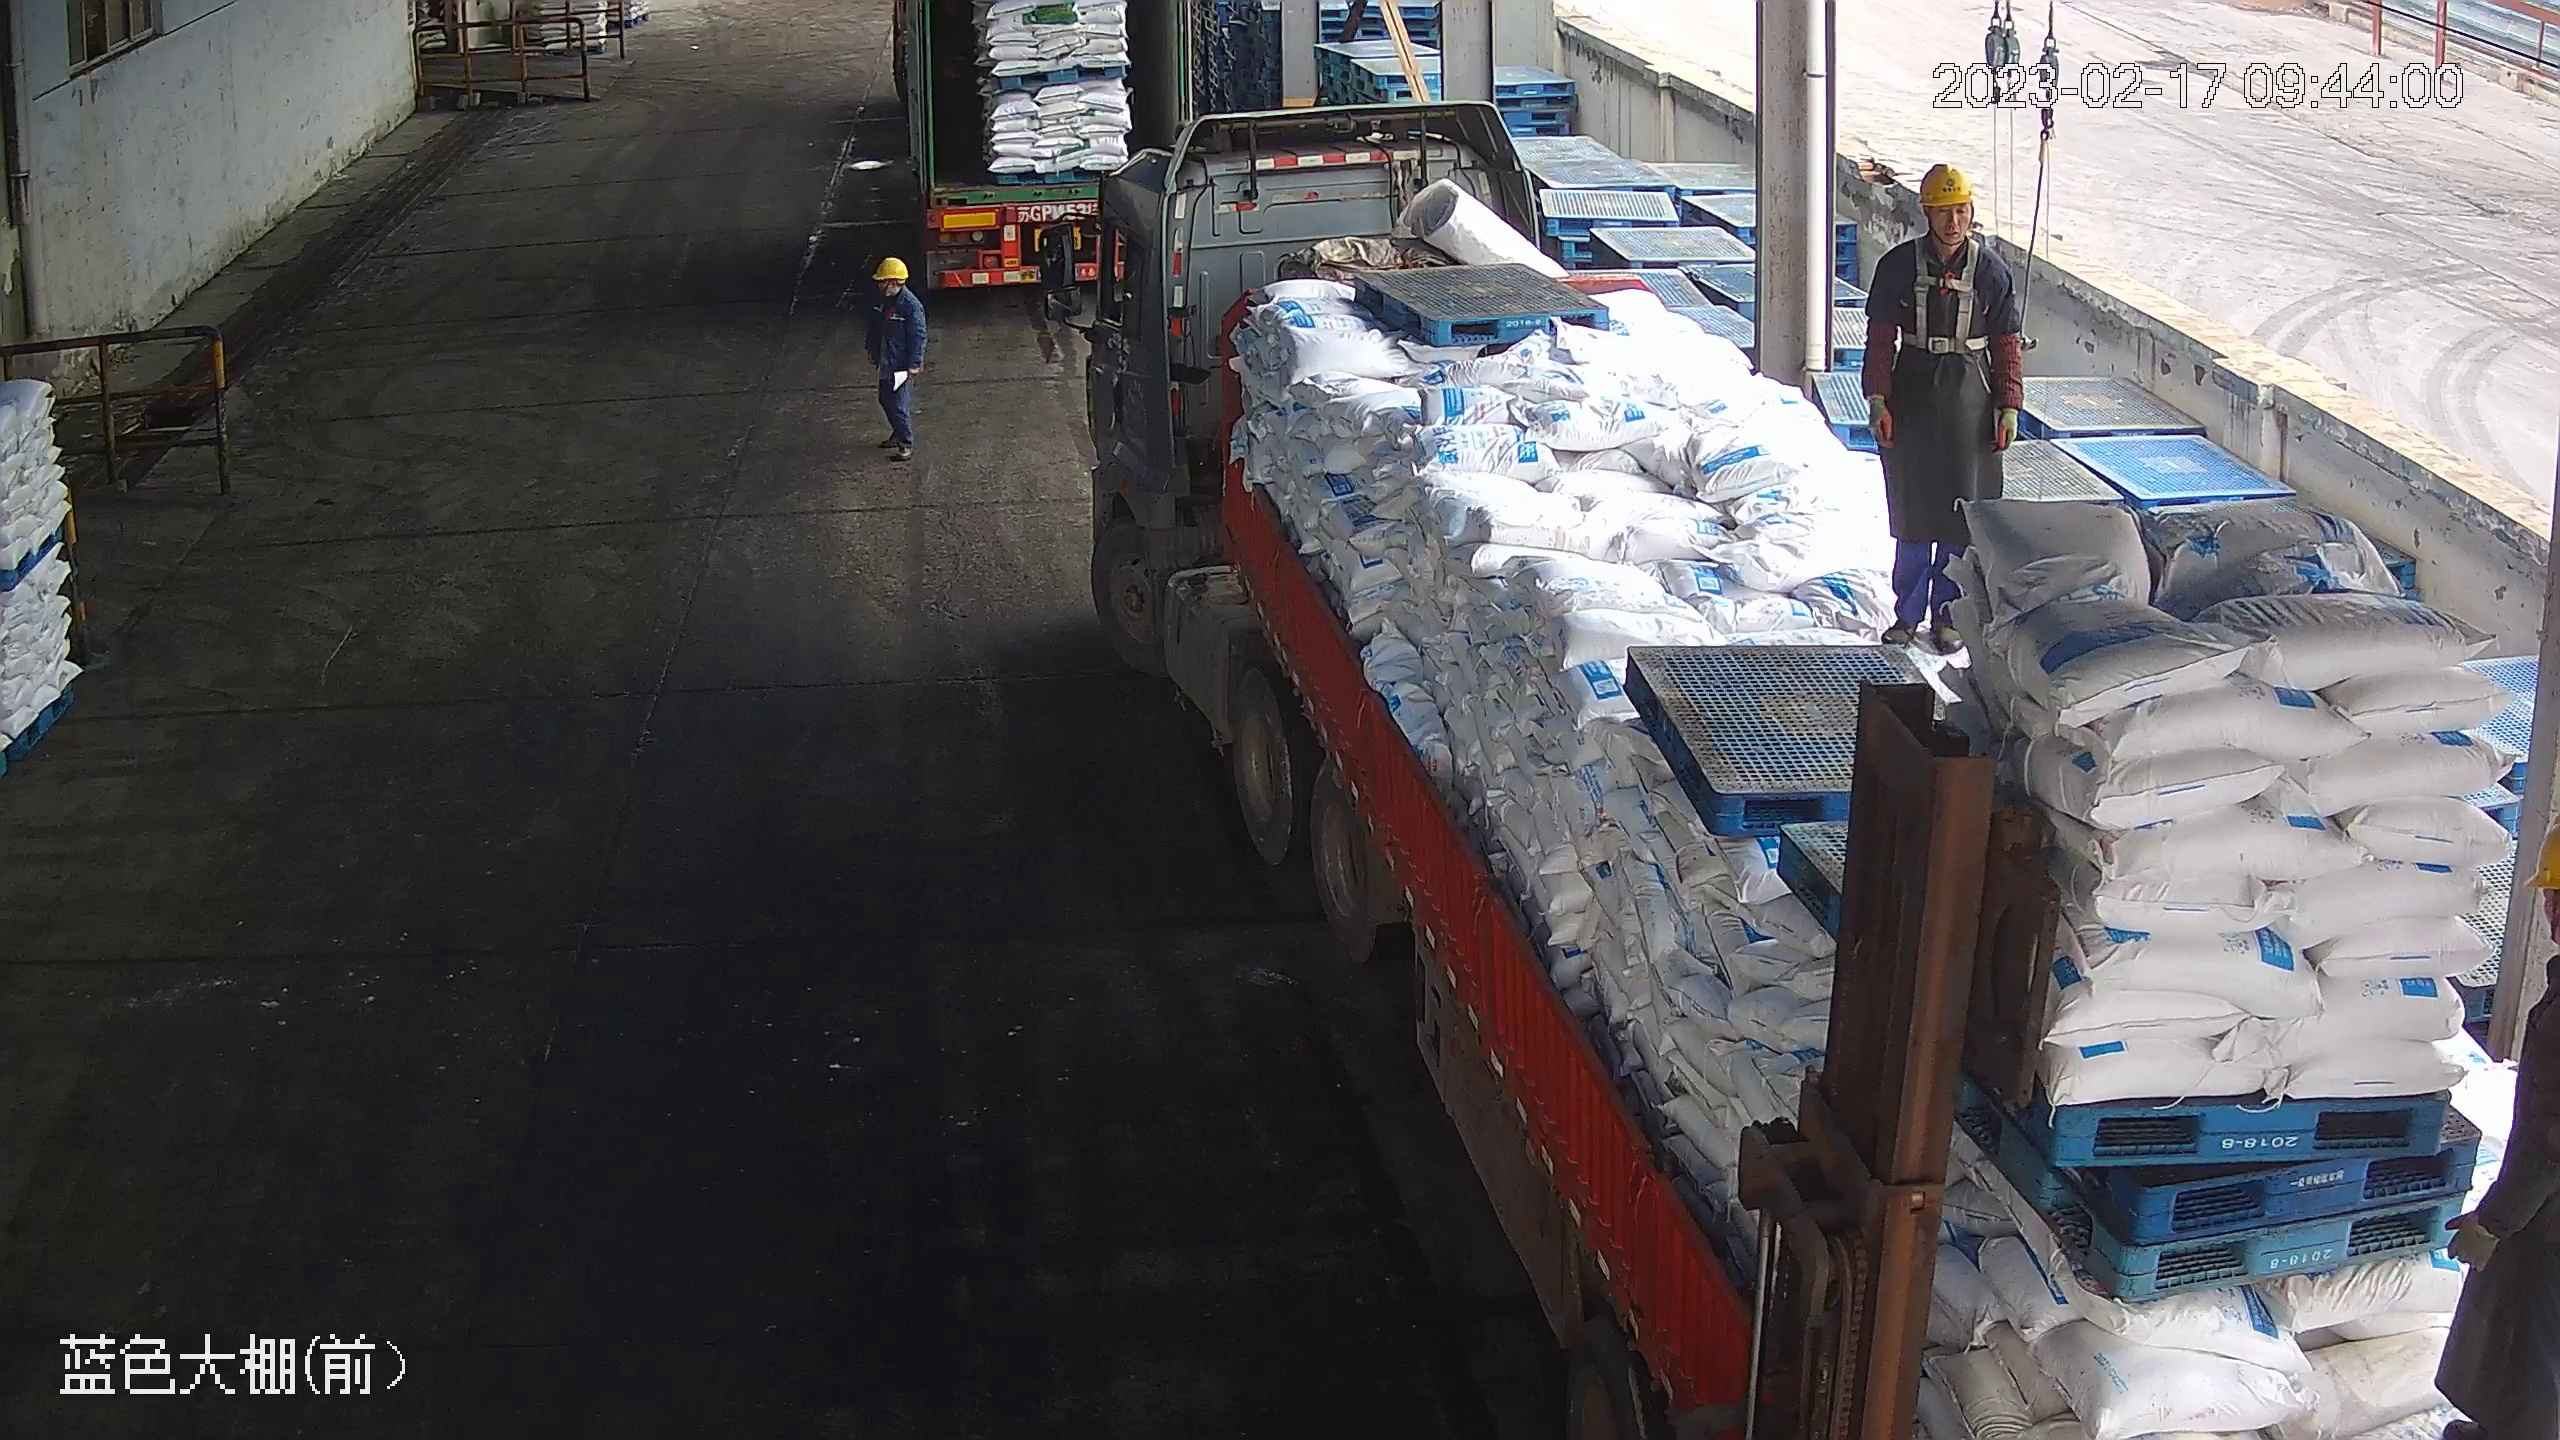belt: (1903, 229, 1997, 352)
head: (1875, 162, 2017, 291), (869, 254, 924, 321)
helmet: (1913, 158, 1974, 207), (872, 253, 908, 280)
people: (1857, 156, 2027, 659), (864, 251, 930, 461)
truck: (1087, 80, 2558, 1440), (881, 1, 1205, 287)
